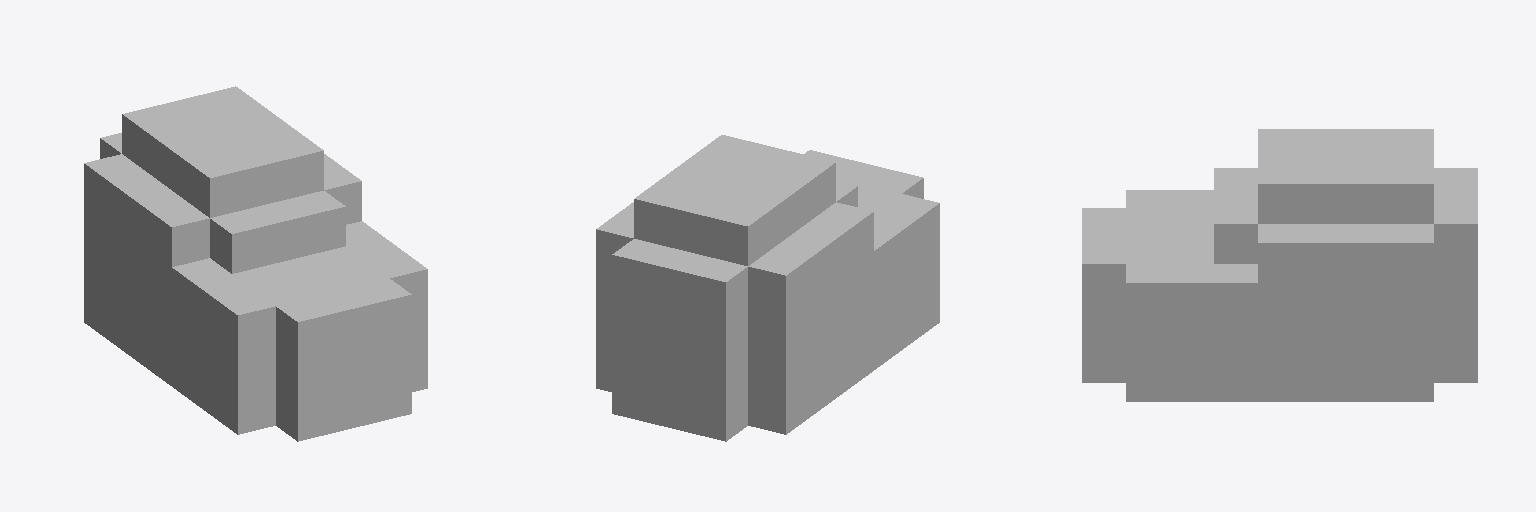
The model's file is Foot.obj.
3 renders of one model, left to right at view 1: azimuth 30°, elevation 25°; view 2: azimuth 150°, elevation 25°; view 3: azimuth 270°, elevation 25°, orthographic.
Parts seen in each view (by area): view 1: object 1; view 2: object 1; view 3: object 1.
Part boxes in pixels (left/top/right/bottom): object 1: left=84, top=86, right=427, bottom=441; object 1: left=596, top=135, right=939, bottom=441; object 1: left=1082, top=129, right=1477, bottom=401.
Bounding box in the file's own units: 0.5 × 0.5 × 0.9.